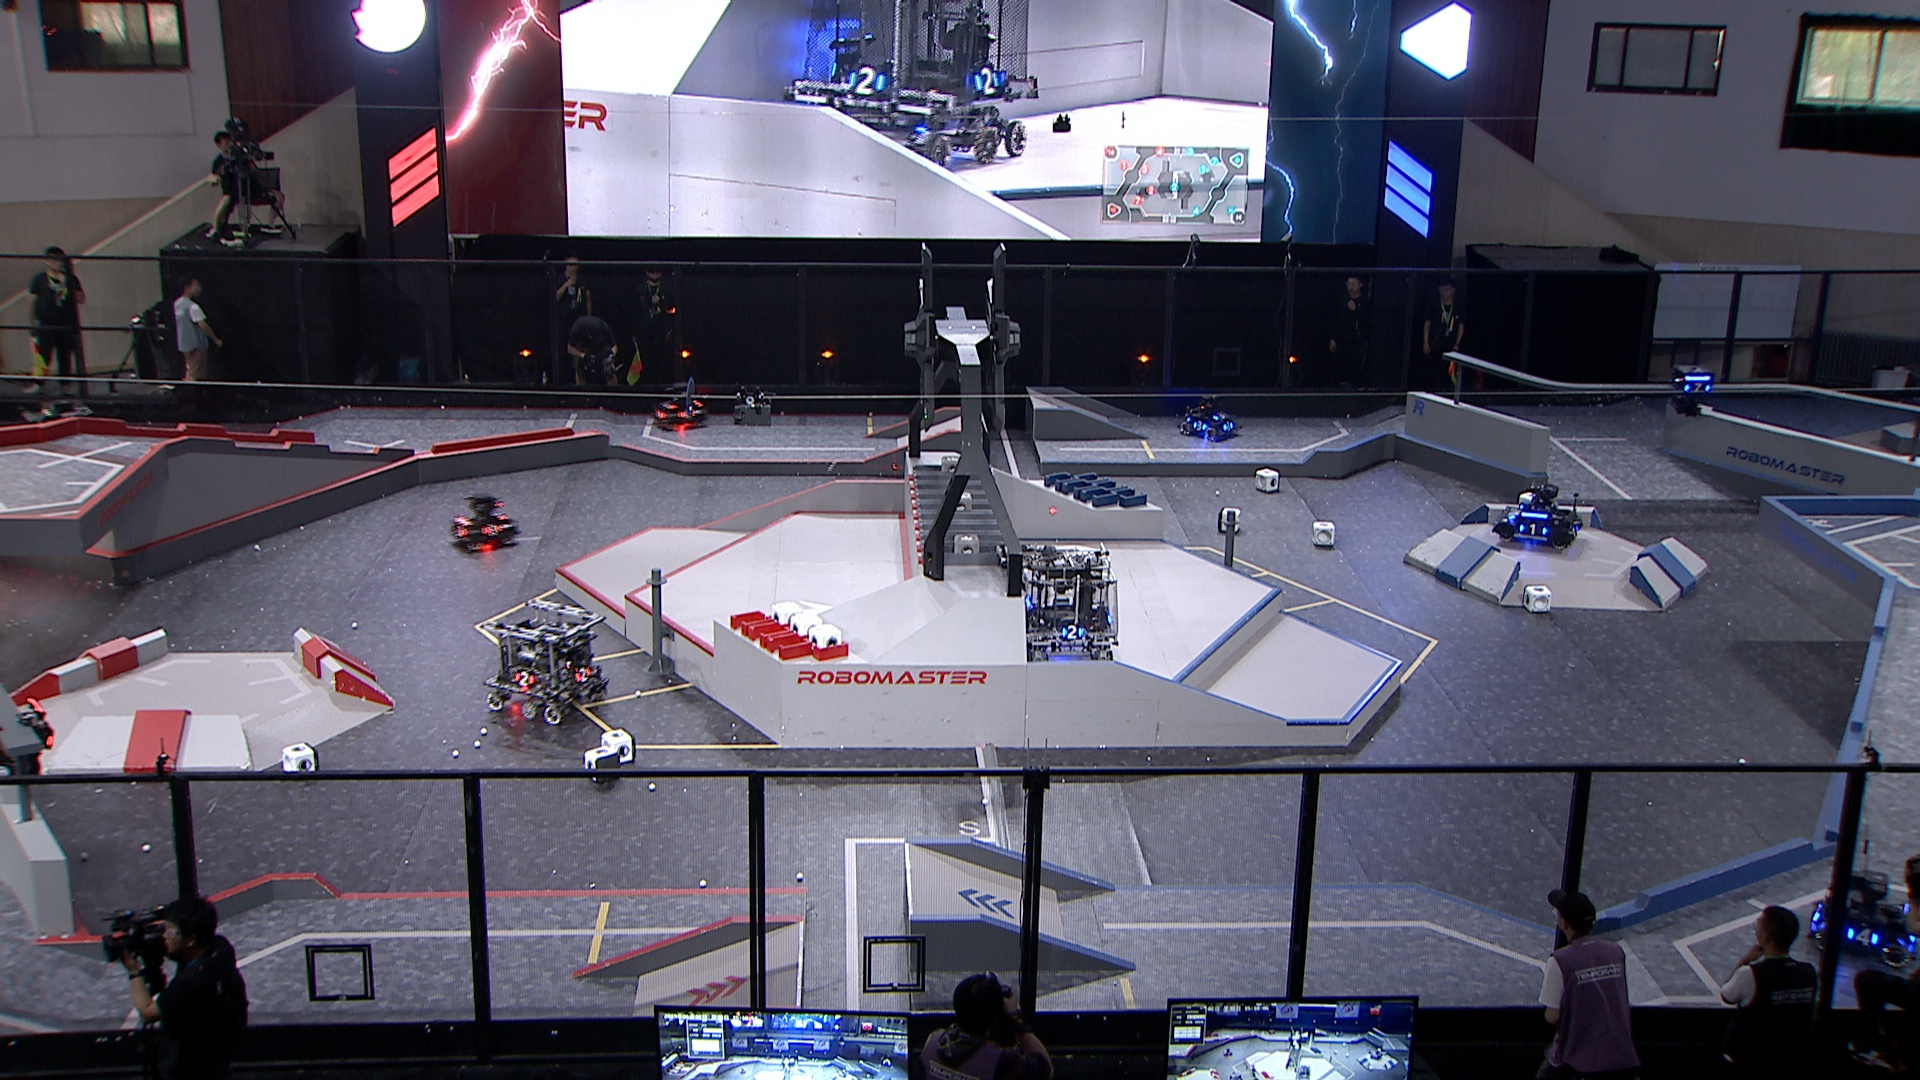armor: (1846, 927, 1878, 945), (1515, 522, 1549, 535), (1060, 624, 1087, 641), (512, 671, 537, 688), (1681, 381, 1712, 394), (572, 666, 593, 683), (480, 524, 502, 537), (1189, 418, 1209, 433), (1505, 505, 1520, 522), (1212, 410, 1232, 422), (655, 398, 676, 409), (448, 524, 465, 535), (1569, 524, 1581, 541), (1222, 419, 1236, 433), (654, 407, 669, 419)
car: (480, 600, 611, 731), (1011, 542, 1120, 665), (1808, 868, 1920, 968), (1493, 479, 1589, 555), (447, 493, 520, 553), (651, 377, 707, 433), (1182, 392, 1242, 439)
watcher: (1669, 363, 1717, 422)
